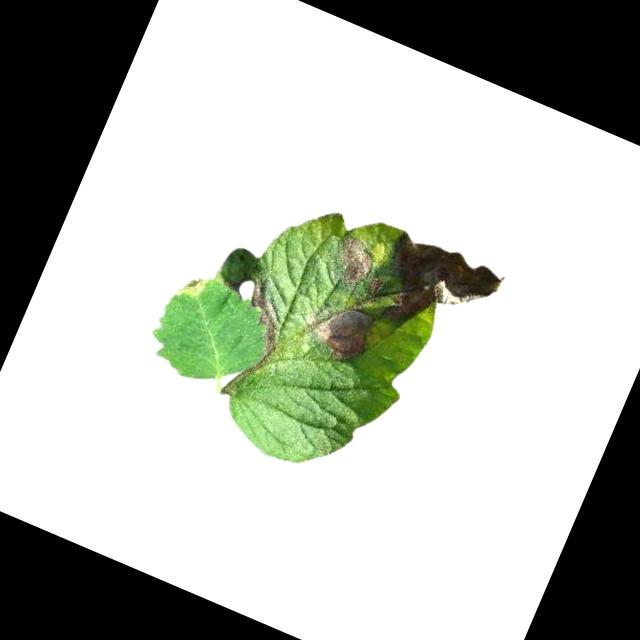Late_blight: (365, 225, 509, 359), (223, 284, 293, 375), (302, 289, 380, 366), (323, 228, 381, 292), (174, 269, 210, 303)
